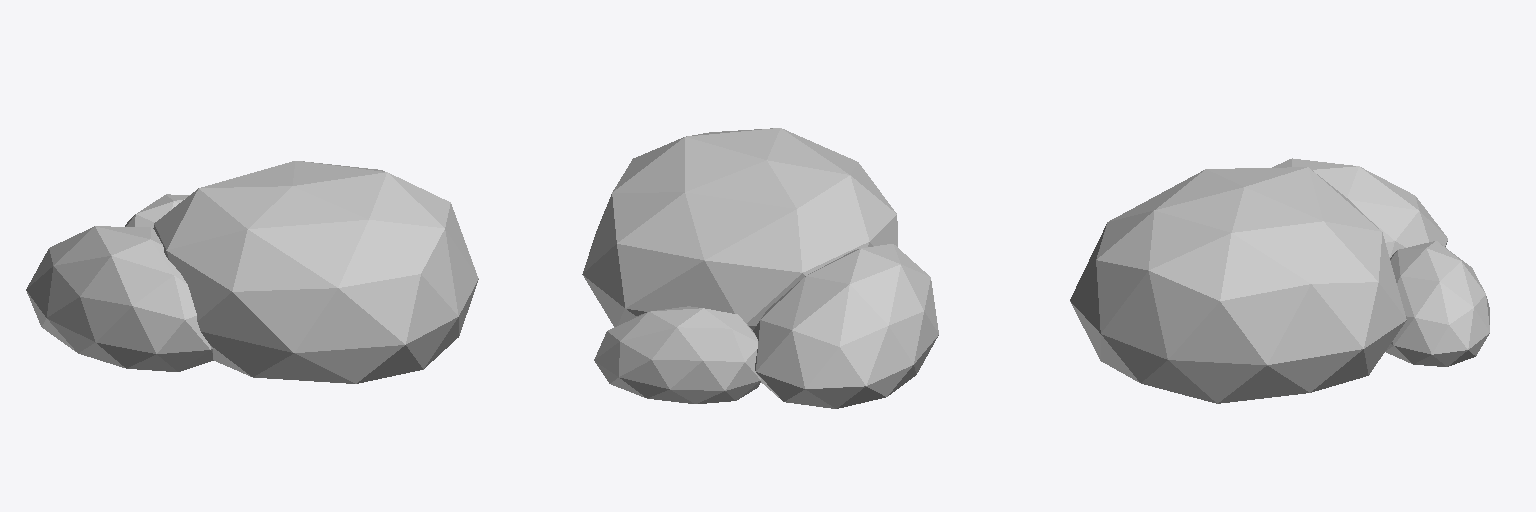
The model's file is vegetaux_buisson2.obj.
The picture shows the model from 3 angles: view 1: azimuth 30°, elevation 25°; view 2: azimuth 150°, elevation 25°; view 3: azimuth 270°, elevation 25°; orthographic projection.
Parts seen in each view (by area): view 1: Icosphere.001; view 2: Icosphere.001; view 3: Icosphere.001.
Part boxes in pixels (x1,y1,x2,y2): Icosphere.001: (26,161,478,383); Icosphere.001: (582,128,938,408); Icosphere.001: (1070,158,1489,403).
Bounding box in the file's own units: 1.87 × 0.7858 × 1.92.